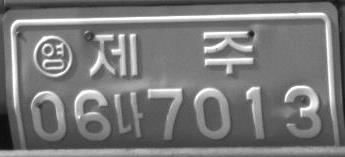0: (193, 86, 231, 141), (30, 89, 67, 143)
1: (240, 85, 274, 140)
3: (283, 84, 322, 139)
6: (73, 88, 113, 143)
7: (146, 86, 184, 140)
나: (113, 90, 144, 138)
영: (32, 34, 72, 78)
제주_D: (87, 29, 254, 77)
